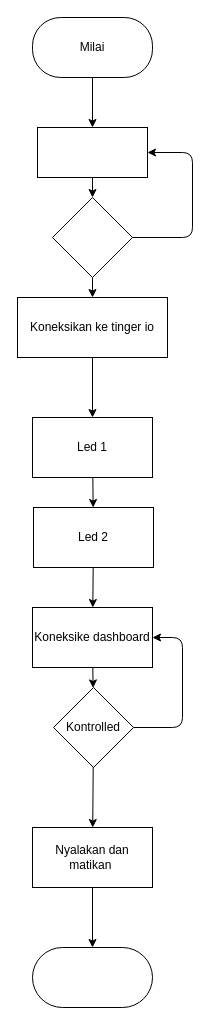
The diagram is 218 pixels wide and 1025 high, and some of its shapes have lost their labels. Each missing label, with the centre of its shape:
"Koneksi ke wifi" goes at pixel 92 152.
"Selesai" goes at pixel 92 977.
"terhubung" goes at pixel 92 237.
